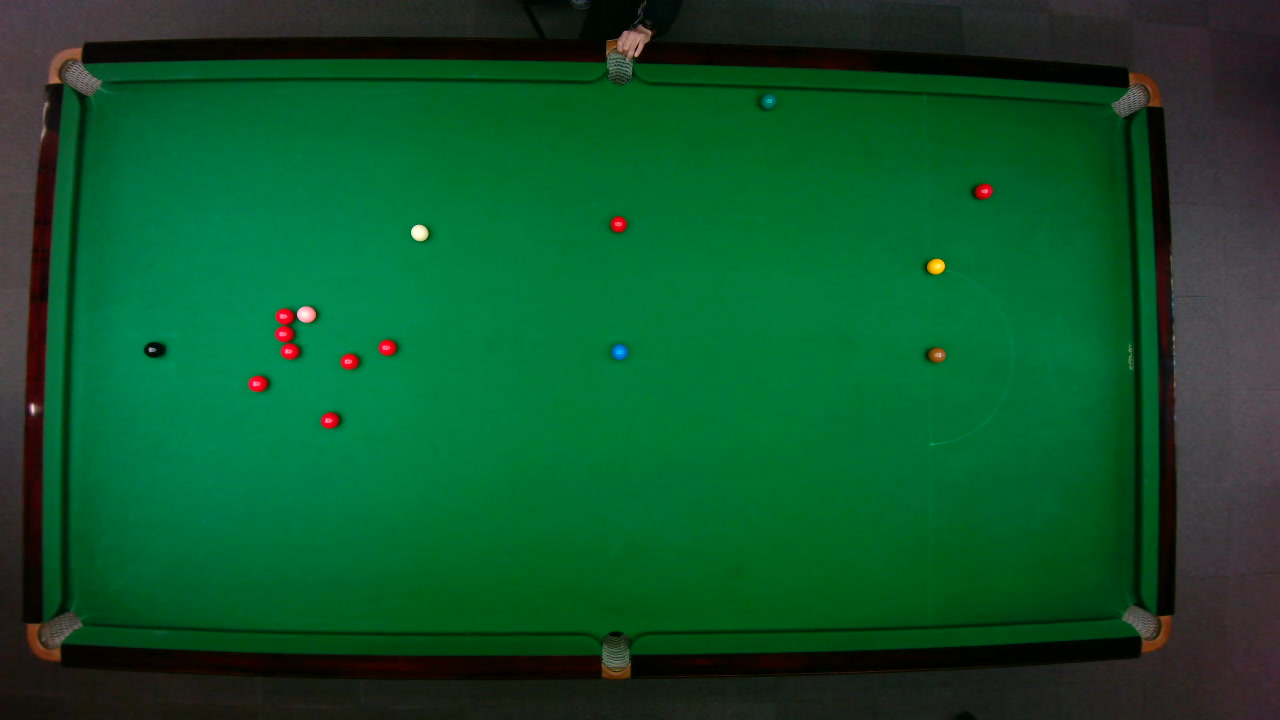bag: (24, 609, 84, 661), (45, 46, 102, 97), (1119, 603, 1172, 652), (1108, 71, 1161, 118), (601, 629, 629, 680), (605, 40, 632, 85)
black: (143, 340, 164, 358)
blue: (610, 343, 628, 360)
brown: (926, 346, 946, 362)
green: (758, 92, 776, 110)
pink: (294, 304, 317, 323)
red: (246, 373, 269, 392), (319, 410, 340, 429), (273, 306, 294, 324), (973, 182, 994, 200), (278, 342, 300, 359), (272, 325, 294, 342), (608, 214, 627, 233), (377, 338, 397, 356), (339, 352, 359, 369)
white: (409, 223, 429, 241)
yellow: (925, 257, 946, 274)
zone: (926, 266, 1013, 445)
